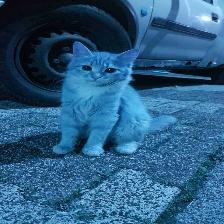kedo: (51, 41, 177, 157)
